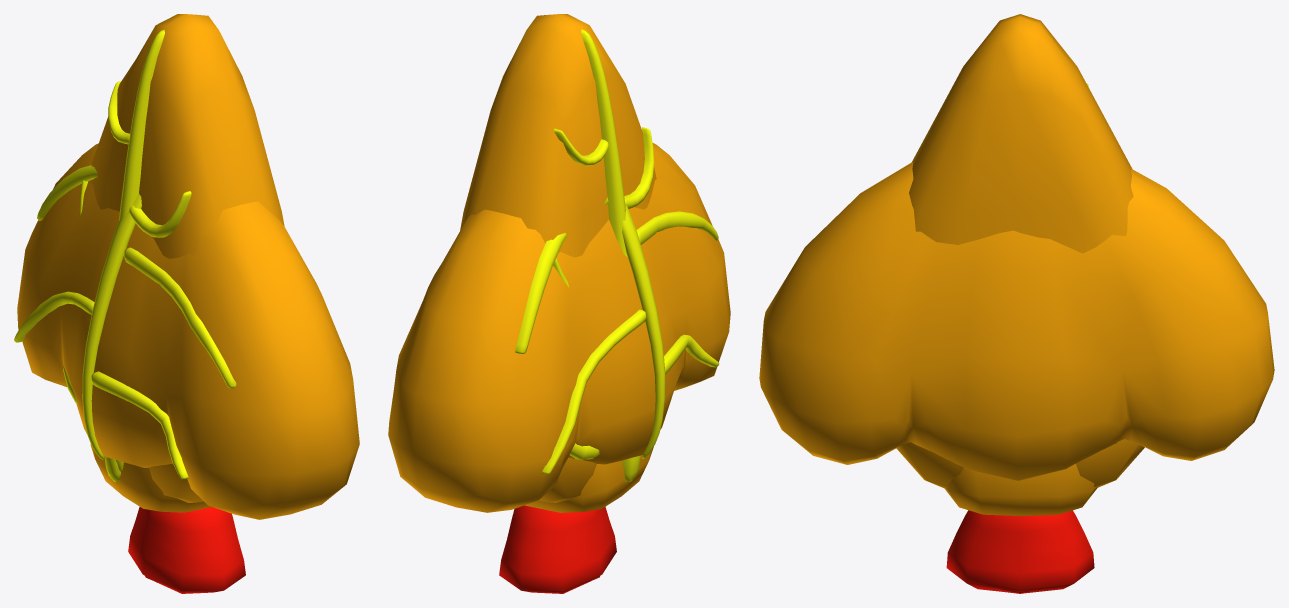
The model's file is arbre_separated.fbx.
3 views of the same model, side by side, from view 1: azimuth 30°, elevation 25°; view 2: azimuth 150°, elevation 25°; view 3: azimuth 270°, elevation 25° (orthographic).
Parts seen in each view (by area): view 1: arbre1, arbre3, arbre4; view 2: arbre1, arbre3, arbre4; view 3: arbre1, arbre3, arbre4.
Part boxes in pixels (<box>): arbre1: <box>14,143,359,583</box>; arbre3: <box>63,14,284,502</box>; arbre4: <box>90,444,245,593</box>; arbre1: <box>388,143,730,580</box>; arbre3: <box>460,14,656,502</box>; arbre4: <box>499,447,653,593</box>; arbre1: <box>759,162,1274,593</box>; arbre3: <box>896,14,1144,488</box>; arbre4: <box>944,463,1097,593</box>.
Size of the model in its own units: 297 by 358 by 136.
